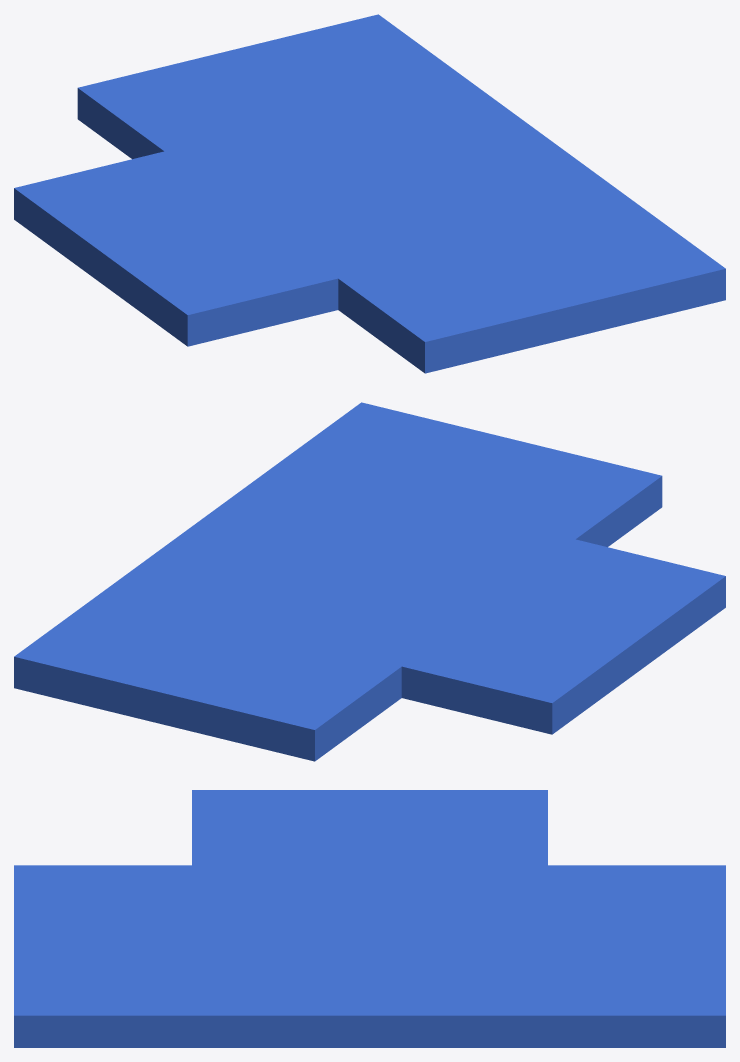
The model's file is block-3-1.glb.
3 renders of one model, top to bottom at view 1: azimuth 30°, elevation 25°; view 2: azimuth 150°, elevation 25°; view 3: azimuth 270°, elevation 25°, orthographic. The views are drawn at different scales.
Visible parts, largest first — view 1: block-3-1; view 2: block-3-1; view 3: block-3-1.
Part boxes in pixels (box(x1,y1,x2,y2)): block-3-1: box(14, 14, 725, 373); block-3-1: box(14, 402, 725, 761); block-3-1: box(14, 790, 725, 1047).
Bounding box in the file's own units: 3 × 0.2 × 4.
